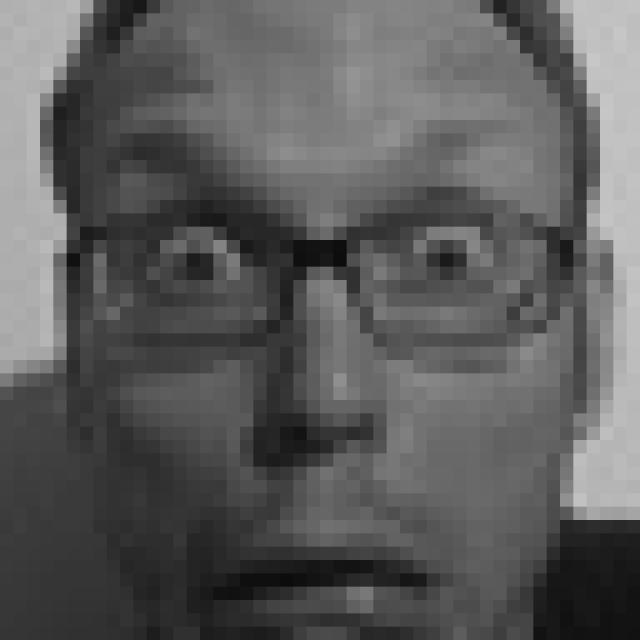surprise: (104, 113, 559, 640)
